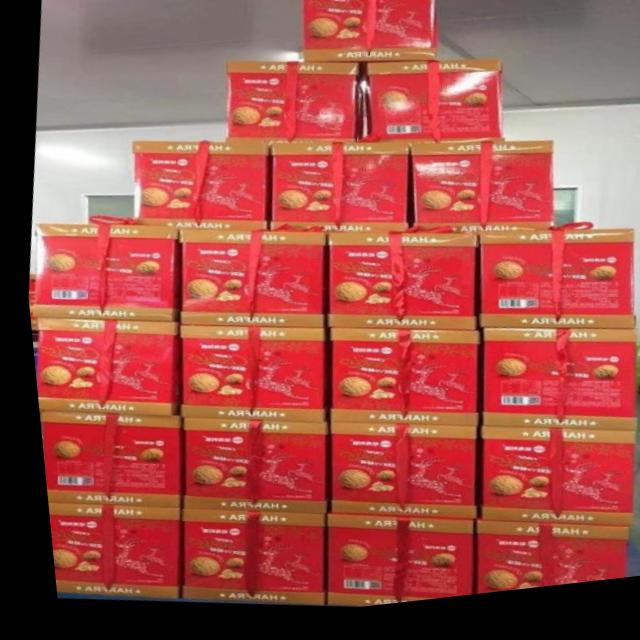box: (471, 338, 629, 445), (469, 437, 626, 541), (471, 243, 629, 343), (320, 239, 472, 341), (317, 429, 469, 530), (172, 232, 322, 334), (320, 335, 472, 435), (26, 224, 173, 325), (172, 329, 320, 429), (171, 421, 320, 520), (170, 512, 317, 612), (28, 318, 171, 419), (31, 410, 173, 511), (312, 520, 463, 614), (264, 148, 405, 242), (405, 152, 549, 243), (38, 503, 169, 602), (127, 143, 266, 236), (461, 530, 617, 604), (361, 71, 501, 153), (224, 65, 359, 150), (301, 0, 435, 71)
